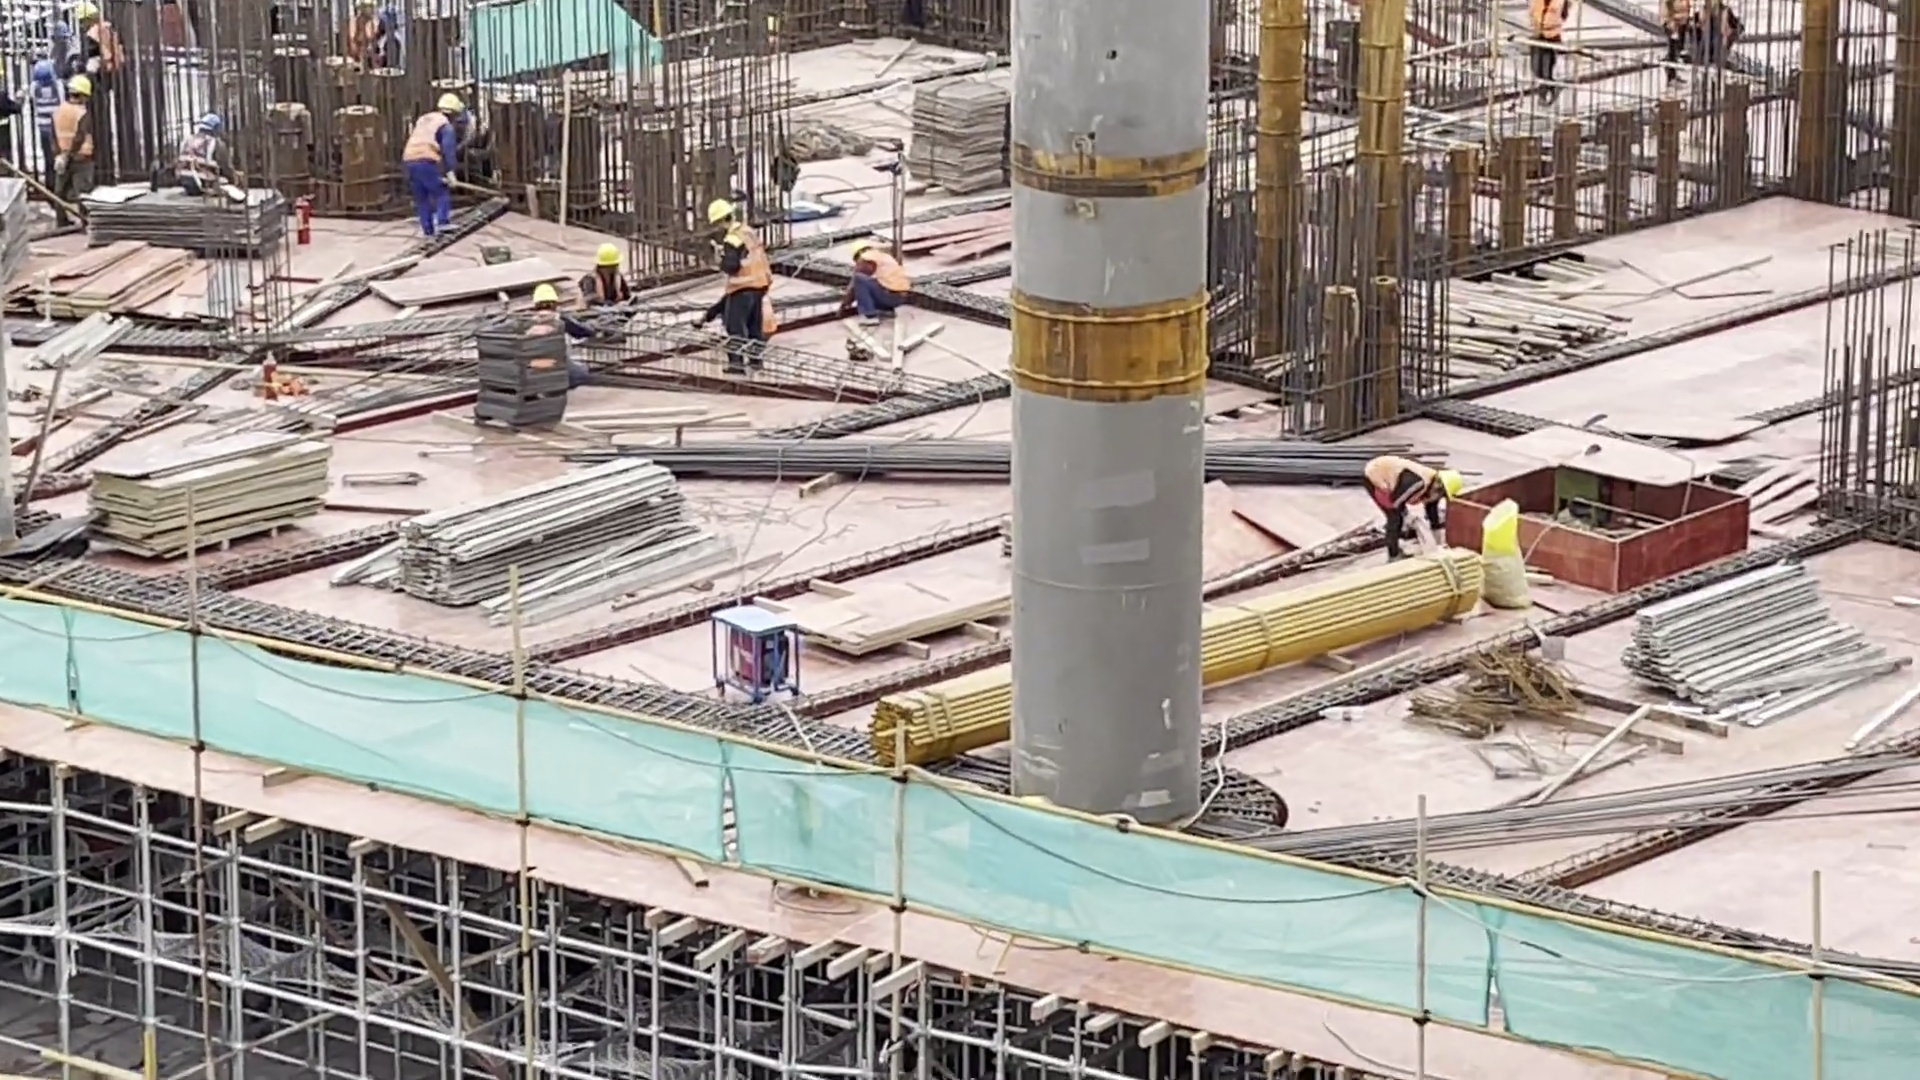board: (56, 427, 348, 554), (81, 185, 292, 256)
helmet: (1436, 463, 1467, 501), (700, 197, 731, 223), (530, 281, 560, 304), (433, 91, 463, 113), (595, 240, 621, 265), (32, 60, 56, 83), (381, 6, 406, 28), (197, 113, 221, 132), (73, 1, 96, 20), (846, 242, 872, 259), (357, 1, 376, 7)
person: (698, 189, 778, 365), (1359, 445, 1470, 563), (404, 83, 466, 234), (836, 235, 915, 319), (518, 280, 588, 375), (1518, 1, 1578, 101), (21, 60, 69, 186), (60, 67, 103, 197), (171, 112, 243, 189), (69, 1, 132, 78), (580, 242, 638, 316), (1653, 1, 1696, 91), (338, 1, 381, 67), (378, 9, 404, 72)
rebar: (626, 420, 1425, 495)
vest: (720, 224, 768, 292), (1365, 457, 1436, 502), (409, 115, 452, 167), (860, 253, 909, 290), (179, 135, 218, 181), (28, 83, 60, 136), (56, 106, 88, 155), (585, 269, 627, 304)
wood: (374, 458, 701, 598), (1624, 556, 1880, 713)
